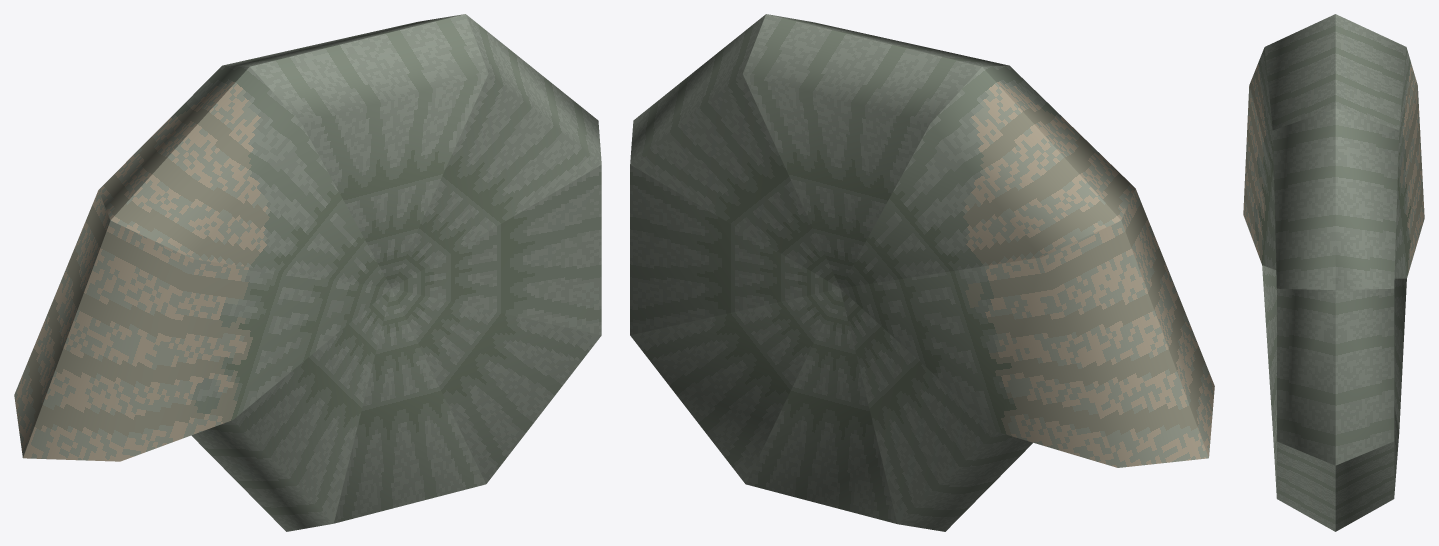
The model's file is 03a7_Ammonite.glb.
3 renders of one model, left to right at view 1: azimuth 30°, elevation 25°; view 2: azimuth 150°, elevation 25°; view 3: azimuth 270°, elevation 25°, orthographic. The views are drawn at different scales.
Visible parts, largest first — view 1: part_0; view 2: part_0; view 3: part_0.
Boxes of the visible parts, box(x1,y1,x2,y2) form: part_0: box(14, 14, 601, 531); part_0: box(630, 14, 1214, 531); part_0: box(1243, 14, 1424, 531).
Size of the model in its own units: 2.02 by 1.59 by 0.6183.
1 material, 1 textured.
